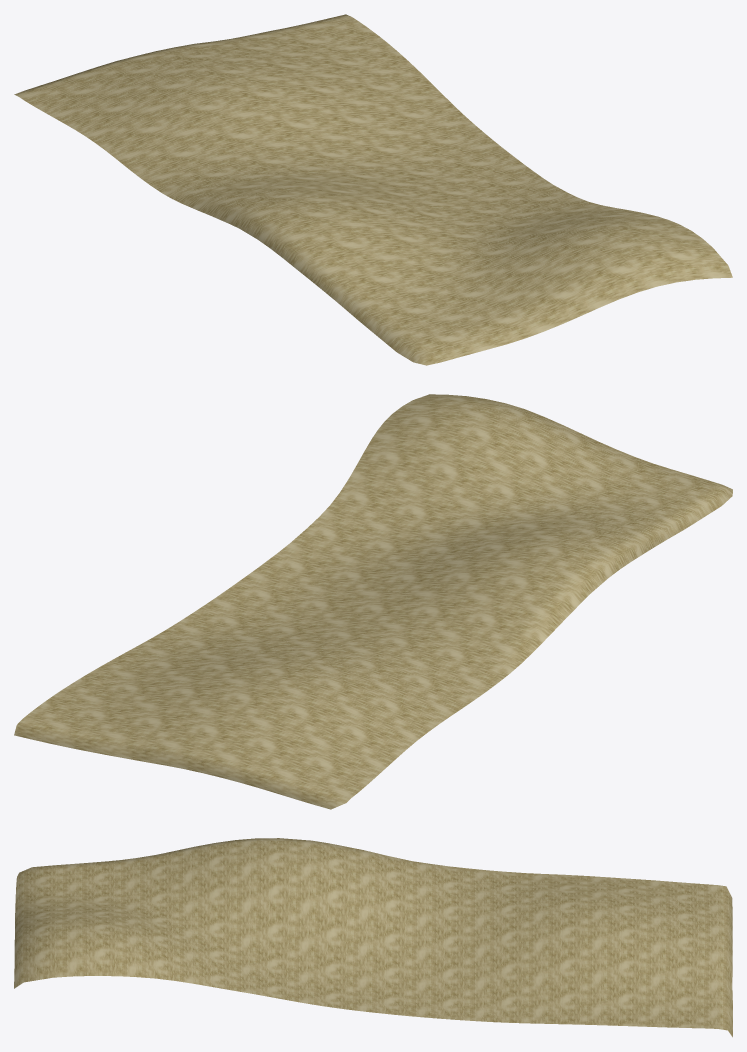
File: SM_ENV_KNFRST_Cliff_Aa.FBX
3 views of the same model, one above another, from view 1: azimuth 30°, elevation 25°; view 2: azimuth 150°, elevation 25°; view 3: azimuth 270°, elevation 25° (orthographic). The views are drawn at different scales.
Visible parts, largest first — view 1: SM_ENV_KNFRST_Cliff_Aa; view 2: SM_ENV_KNFRST_Cliff_Aa; view 3: SM_ENV_KNFRST_Cliff_Aa.
Part boxes in pixels (x1,y1,x2,y2): SM_ENV_KNFRST_Cliff_Aa: [14, 14, 732, 365]; SM_ENV_KNFRST_Cliff_Aa: [14, 394, 732, 809]; SM_ENV_KNFRST_Cliff_Aa: [14, 838, 732, 1037].
Size of the model in its own units: 4919 by 995 by 10128.
